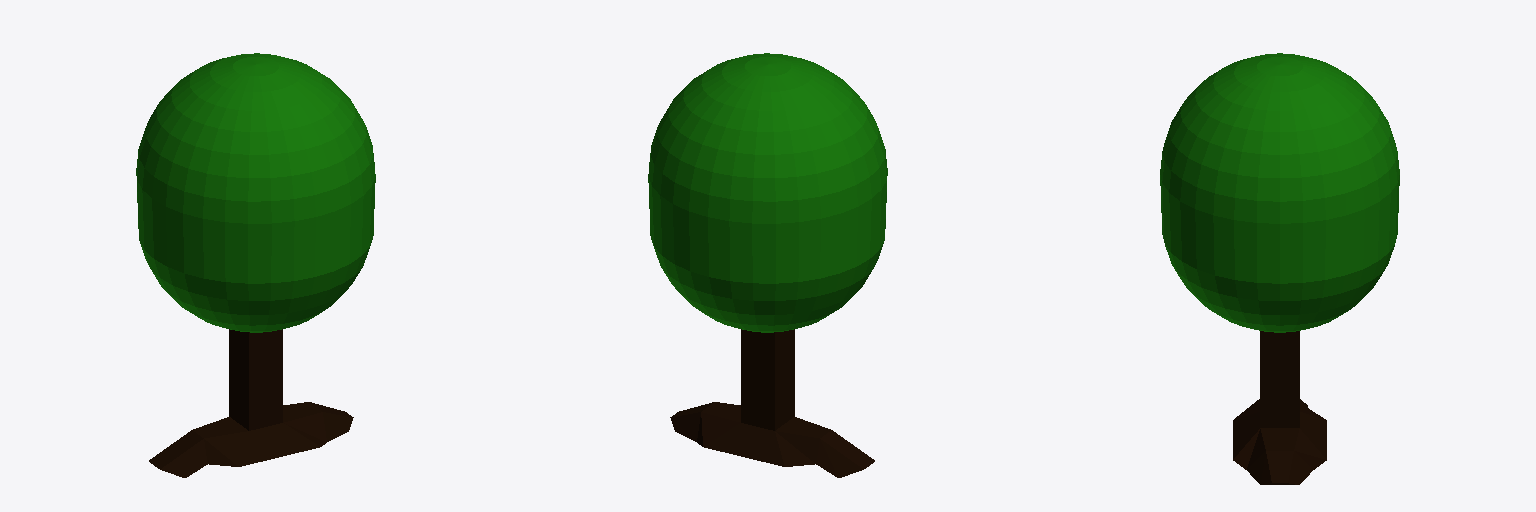
The model's file is tree.obj.
3 views of the same model, side by side, from view 1: azimuth 30°, elevation 25°; view 2: azimuth 150°, elevation 25°; view 3: azimuth 270°, elevation 25° (orthographic).
Parts seen in each view (by area): view 1: Cube; view 2: Cube; view 3: Cube.
Boxes of the visible parts, x1,y1,x2,y2 form: Cube: [136, 53, 375, 477]; Cube: [648, 53, 887, 477]; Cube: [1160, 53, 1399, 484].
Bounding box in the file's own units: 12.17 × 21.43 × 12.17.